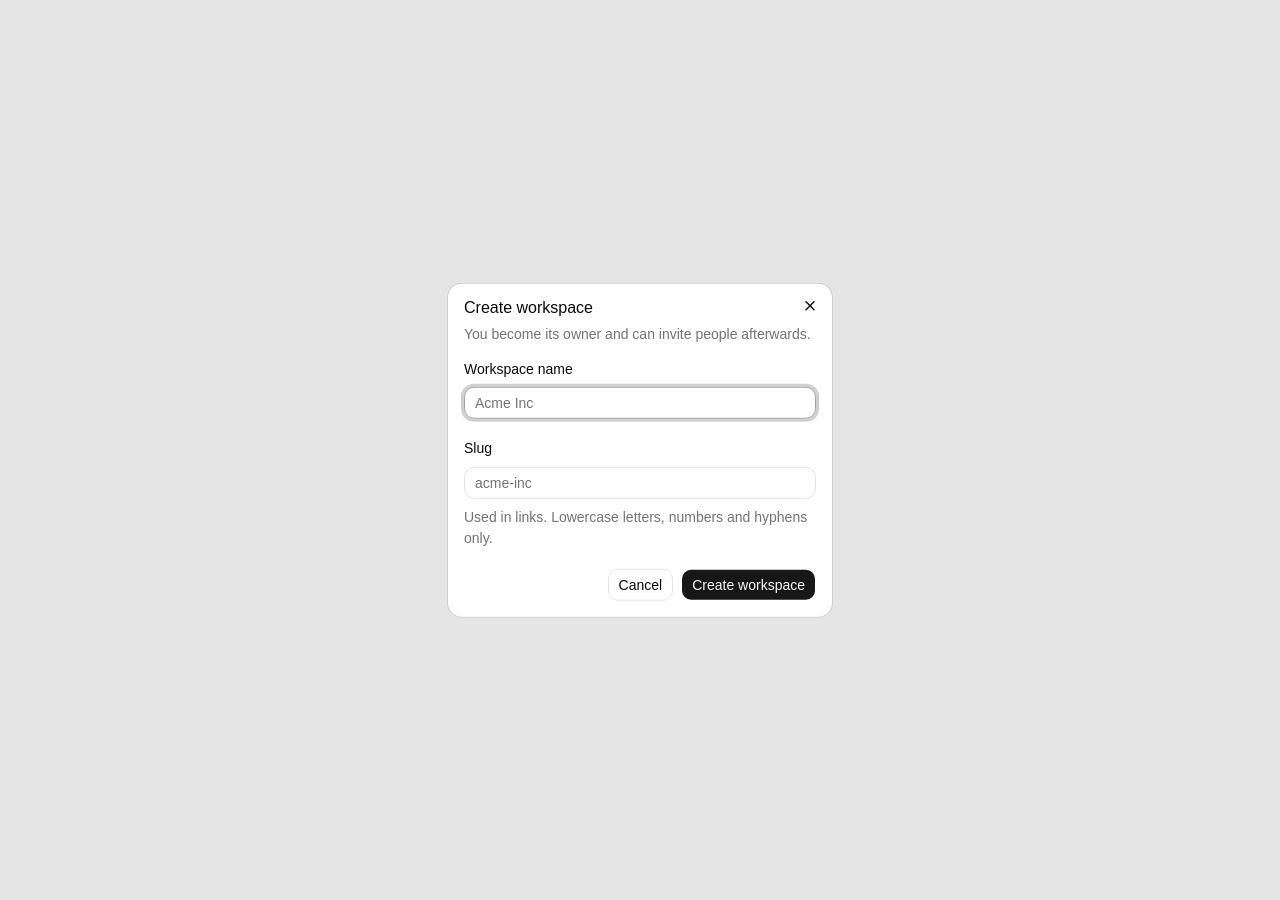
Test: CreateWorkspaceDialog › derives the slug from the name until the user edits the slug
The image size is (1280, 900).
In the field labelled "Workspace name": (640, 403) [464,387,816,419], type "Pilot Co"
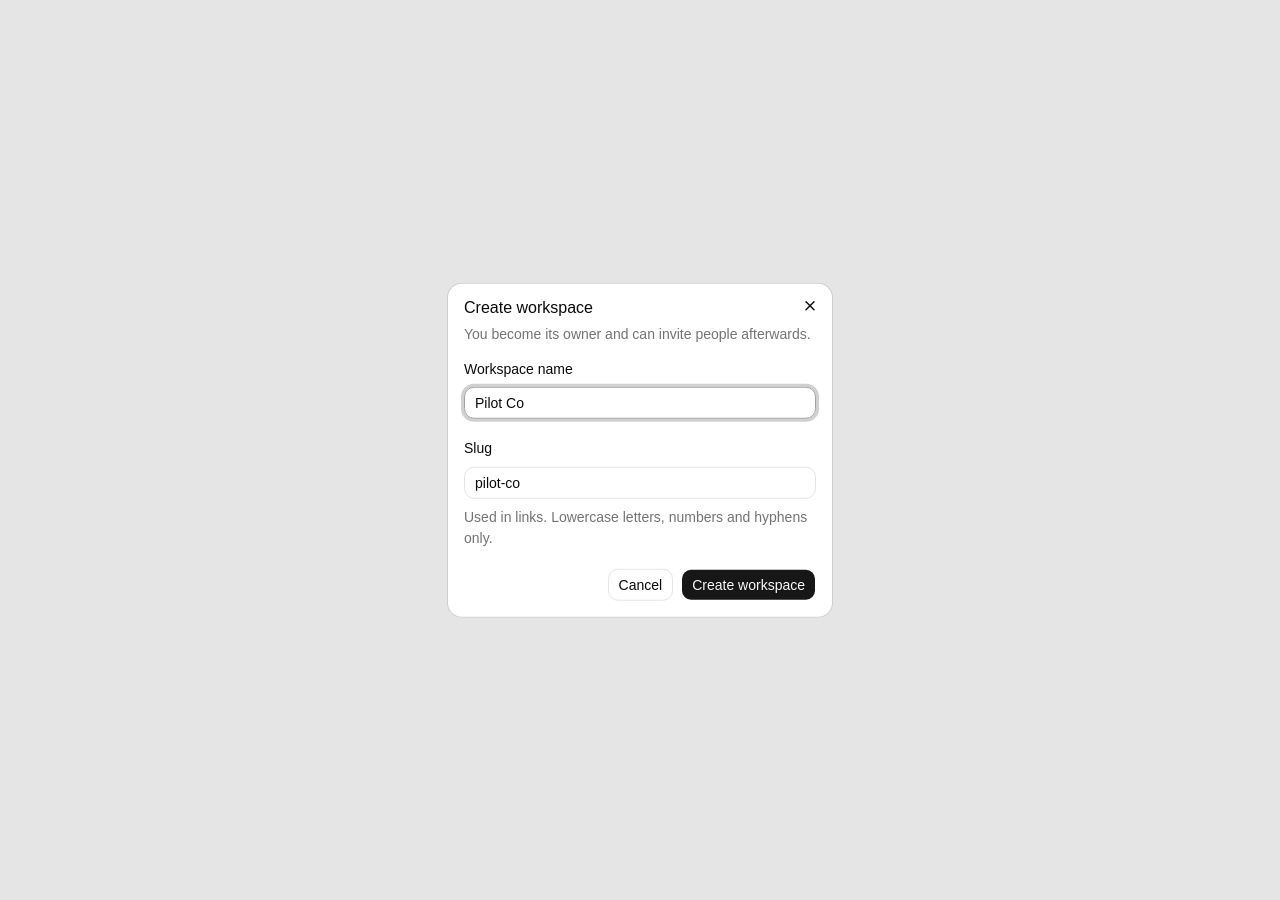
Expected: the field labelled "Slug" holds "pilot-co"
Replace the text in the field labelled "Slug" with "custom-slug": (640, 482) [464,466,816,498]
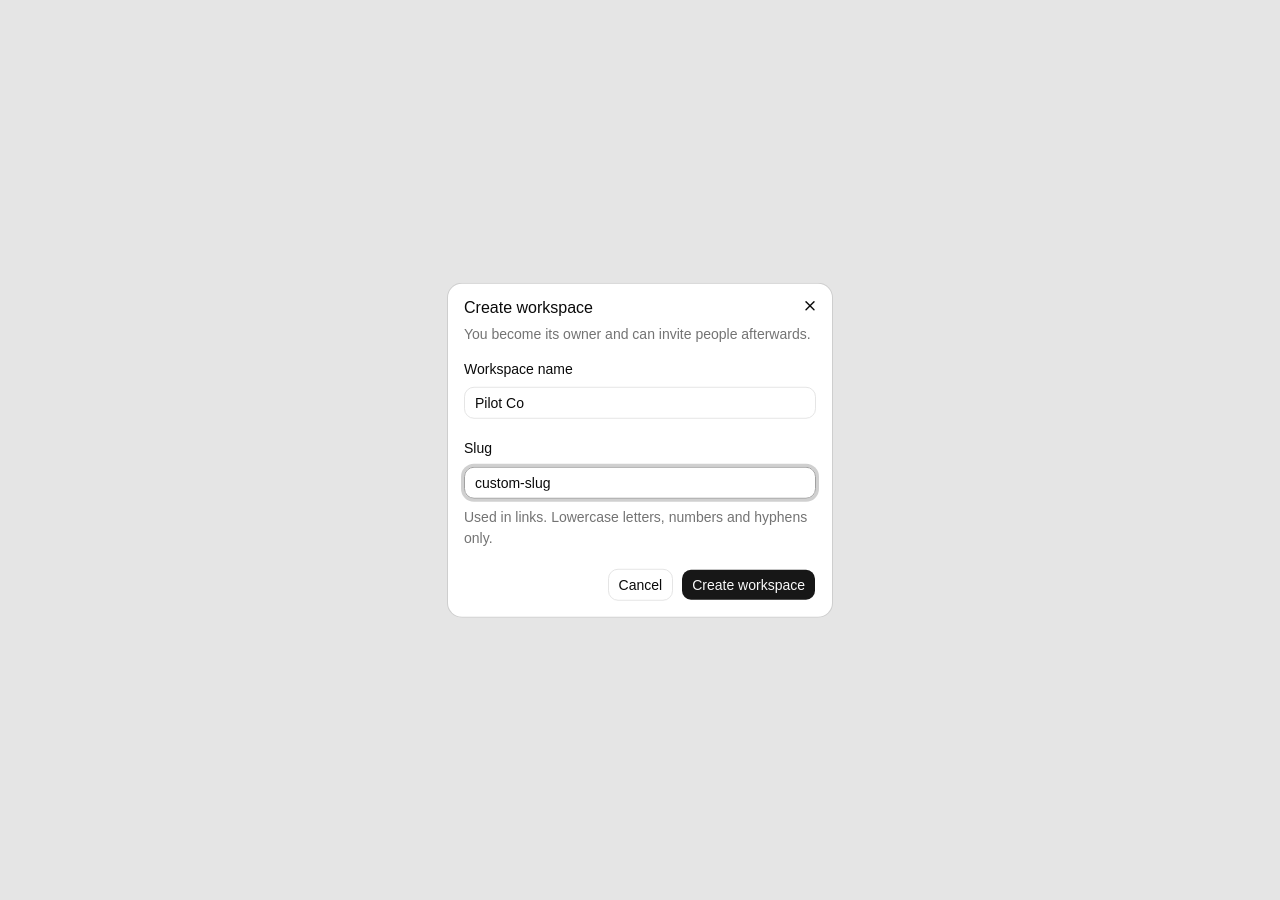
In the field labelled "Workspace name": (640, 403) [464,387,816,419], type " Two"
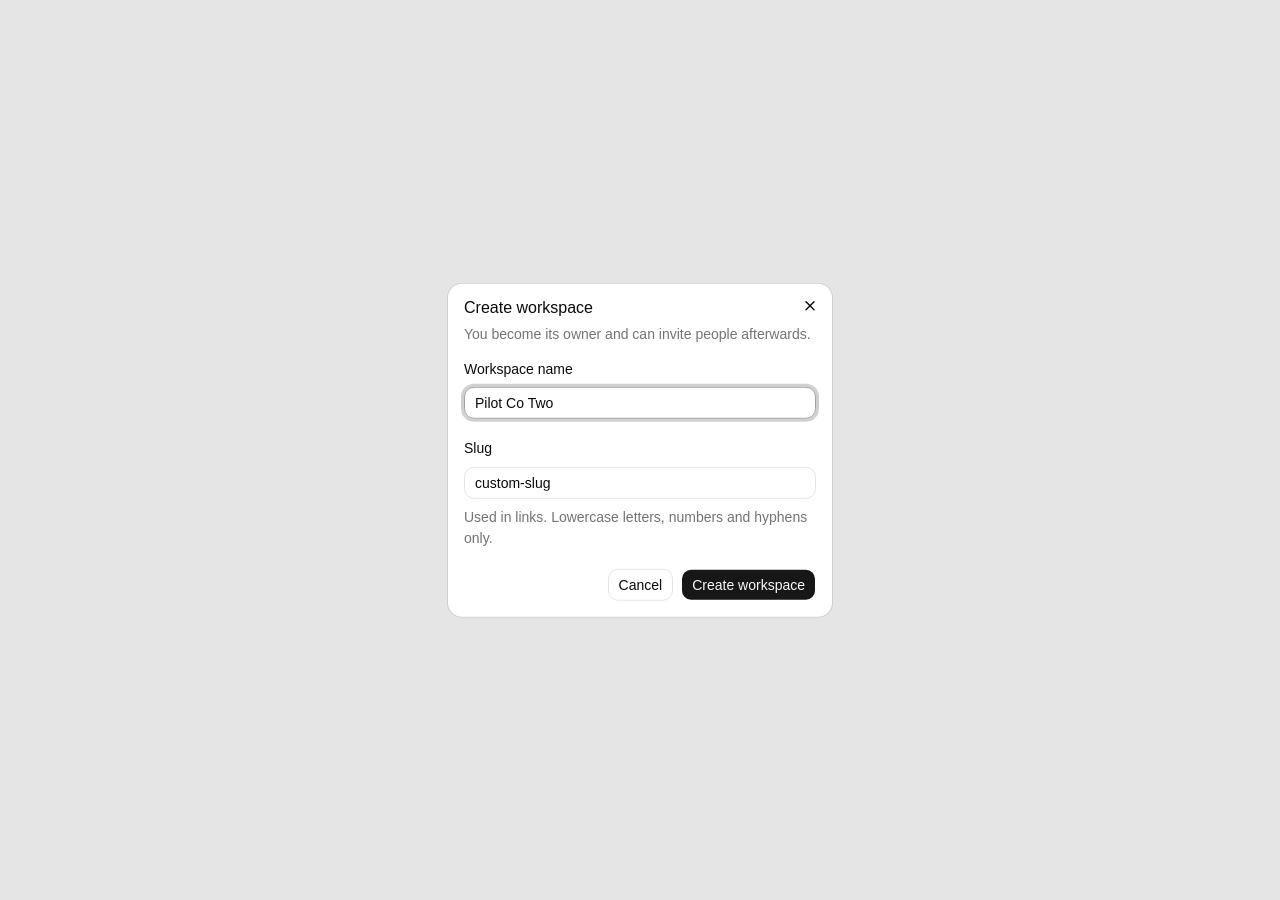
Expected: the field labelled "Workspace name" holds "Pilot Co Two", [464,387,816,419]
